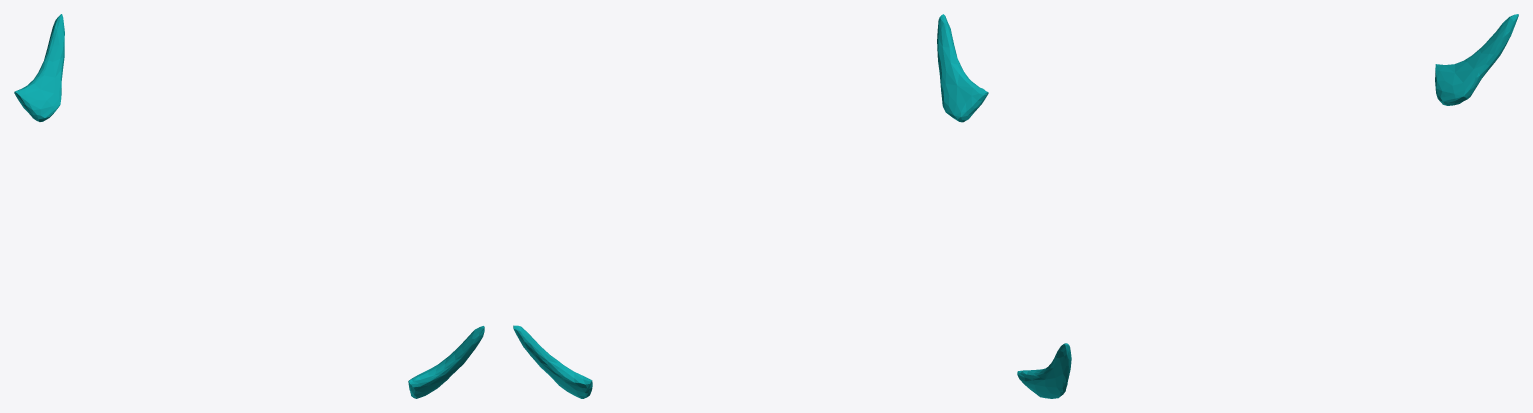
The picture shows the model from 3 angles, left to right: view 1: azimuth 30°, elevation 25°; view 2: azimuth 150°, elevation 25°; view 3: azimuth 330°, elevation 25°; orthographic projection. The views are drawn at different scales.
Visible parts, largest first — view 1: 643.obj; view 2: 643.obj; view 3: 643.obj.
Part boxes in pixels (x1=…): 643.obj: x1=14, y1=14, x2=484, y2=398; 643.obj: x1=513, y1=14, x2=988, y2=398; 643.obj: x1=1017, y1=14, x2=1518, y2=398.
Size of the model in its own units: 804 by 971 by 9434.
